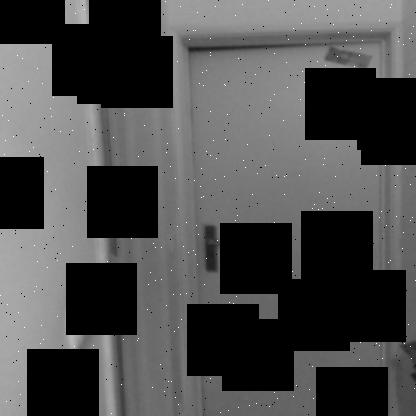Porte: (172, 21, 406, 416)
